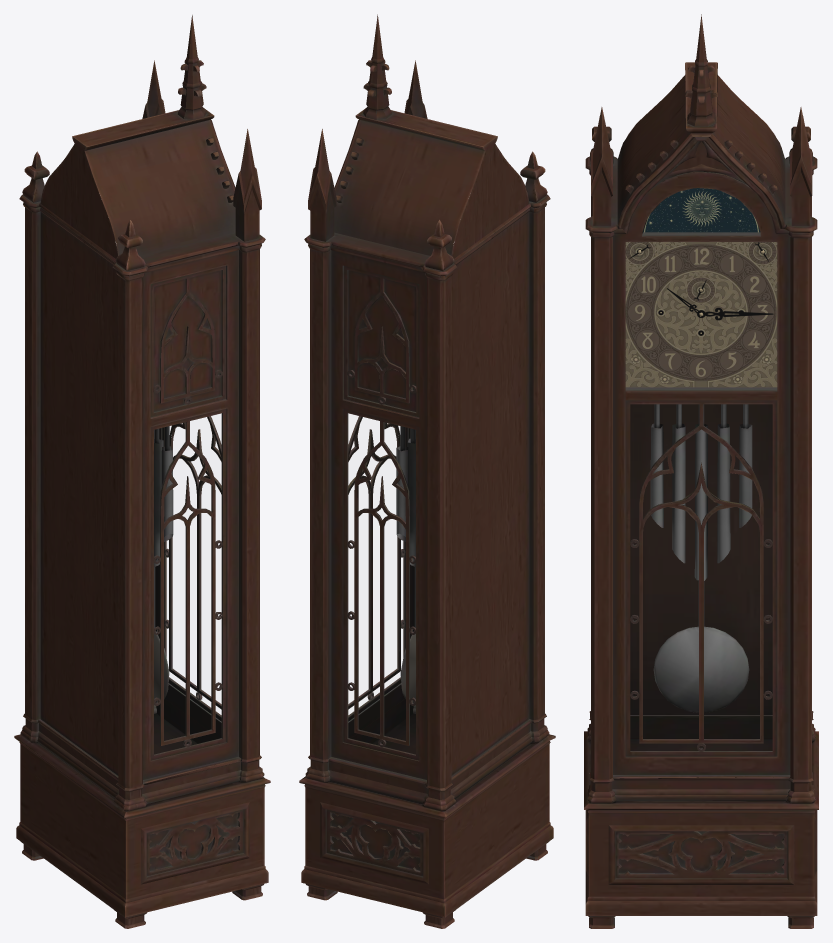
Rendered from vict_grandfather_clock.glb.
The picture shows the model from 3 angles, left to right: view 1: azimuth 30°, elevation 25°; view 2: azimuth 150°, elevation 25°; view 3: azimuth 270°, elevation 25°; orthographic projection. The views are drawn at different scales.
Parts seen in each view (by area): view 1: ClockCase_ClockCase_0; view 2: ClockCase_ClockCase_0; view 3: ClockCase_ClockCase_0.
Boxes of the visible parts, bbox=[...] form: ClockCase_ClockCase_0: bbox=[14, 15, 270, 928]; ClockCase_ClockCase_0: bbox=[299, 14, 555, 928]; ClockCase_ClockCase_0: bbox=[584, 14, 818, 928].
Size of the model in its own units: 0.3787 by 2.1 by 0.494.
4 materials, 3 textured.
